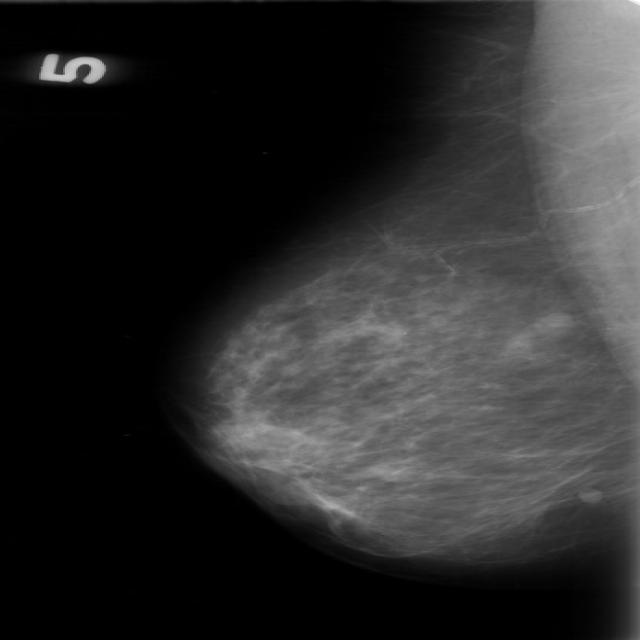tumour: (531, 310, 575, 336)
